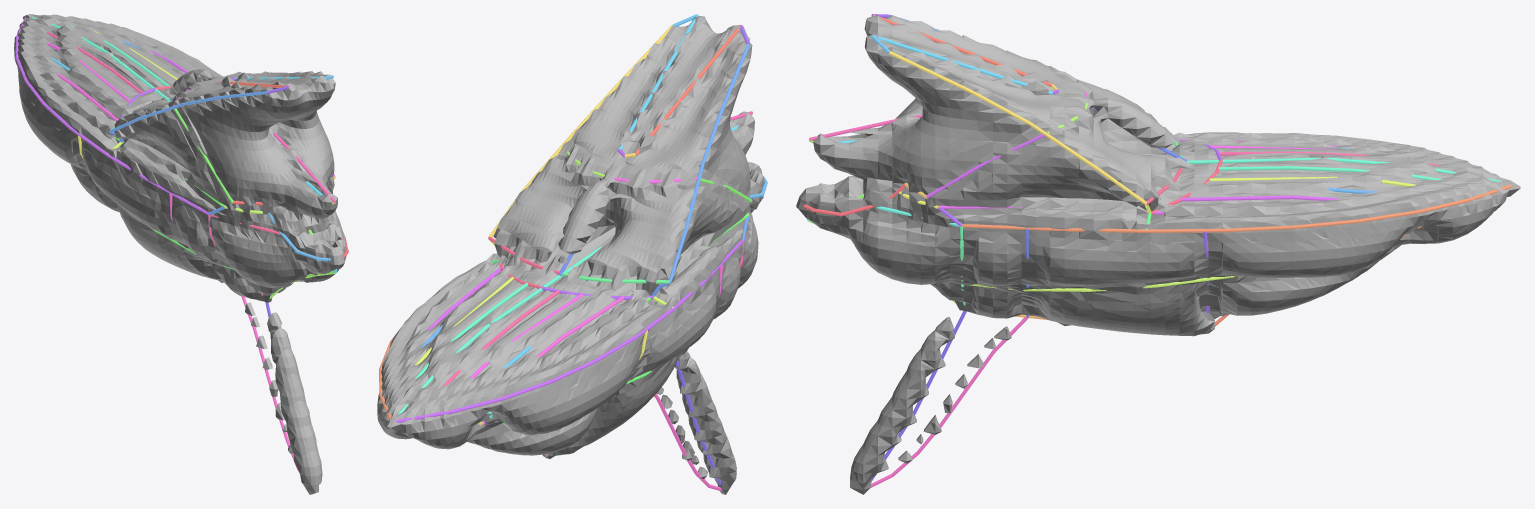
File: ils_boat.gltf
The picture shows the model from 3 angles, left to right: view 1: azimuth 30°, elevation 25°; view 2: azimuth 150°, elevation 25°; view 3: azimuth 270°, elevation 25°; orthographic projection. The views are drawn at different scales.
Bounding box in the file's own units: 0.2464 × 0.574 × 0.8022.
